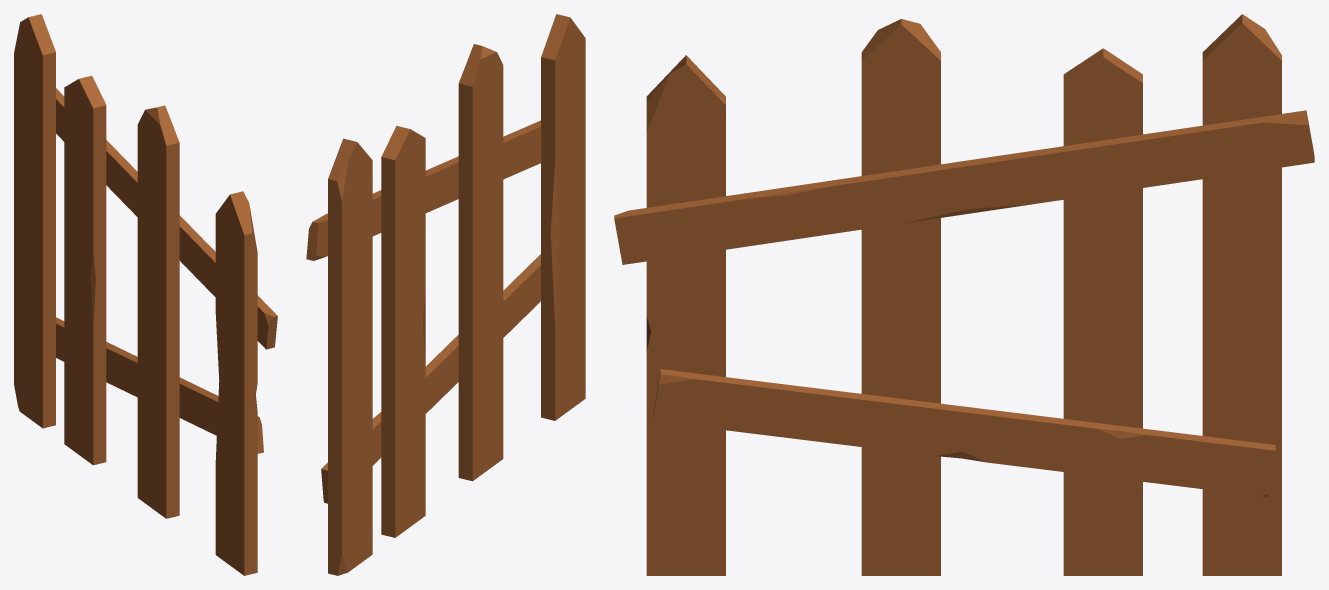
Rendered from fence4.fbx.
3 renders of one model, left to right at view 1: azimuth 30°, elevation 25°; view 2: azimuth 150°, elevation 25°; view 3: azimuth 270°, elevation 25°, orthographic. The views are drawn at different scales.
Parts seen in each view (by area): view 1: Cube.004; view 2: Cube.004; view 3: Cube.004.
Part boxes in pixels (x1,y1,x2,y2): Cube.004: (14, 14, 277, 575); Cube.004: (306, 14, 585, 575); Cube.004: (614, 14, 1314, 575).
Size of the model in its own units: 6.2 by 107 by 123.
